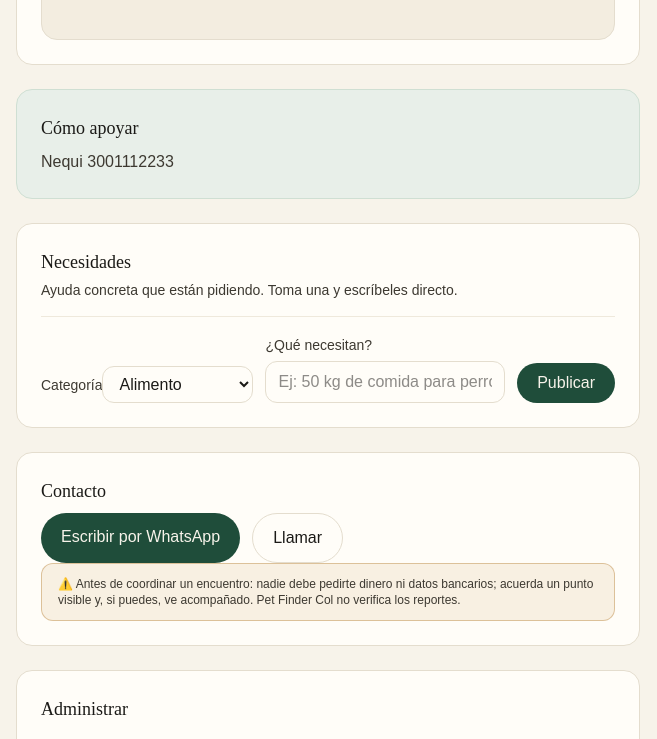
Test: OrganizacionDetalle › el autor publica una necesidad y la marca cubierta
(page scrolled)
Select "Medicinas" in the dropdown labelled "Categoría": (178, 384) [102,366,254,402]
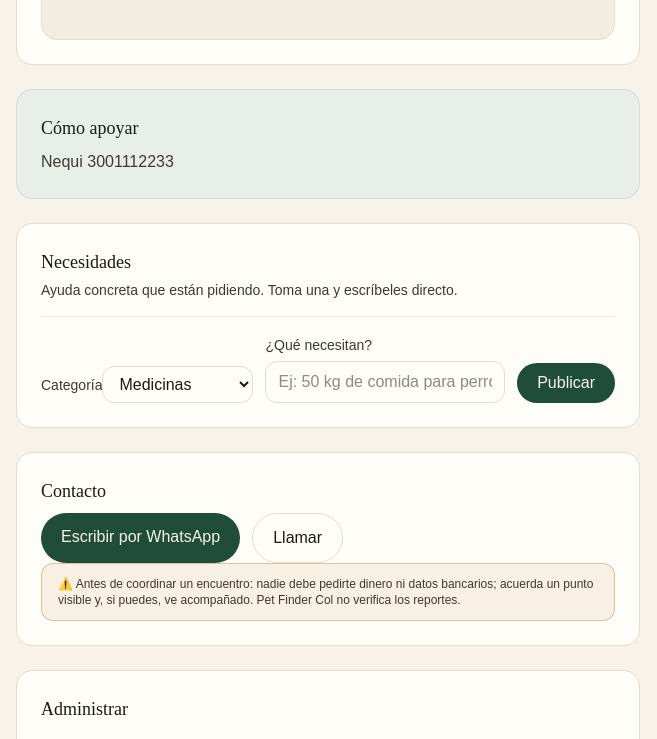
In the field labelled "¿Qué necesitan?": (385, 382) [266,360,505,402], type "Antipulgas para cachorros"
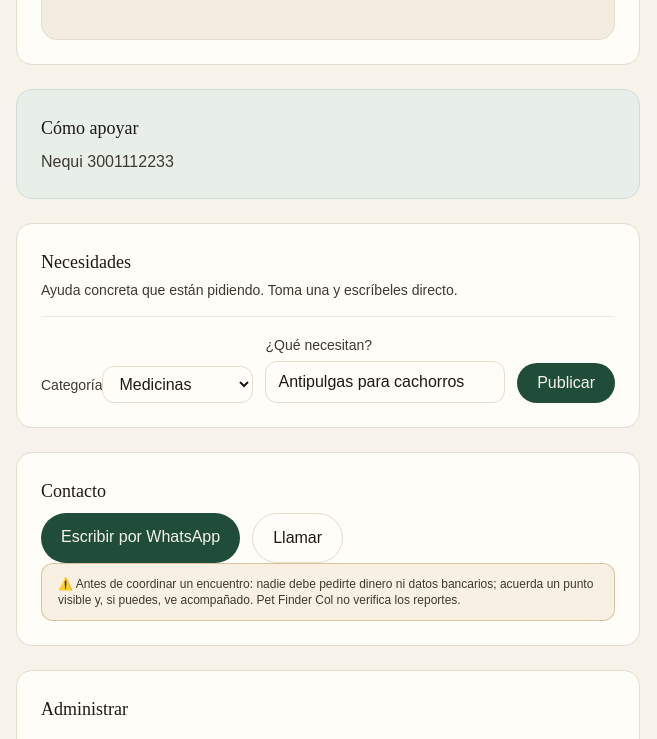
Click the button "Publicar": (566, 382) [517,362,615,402]
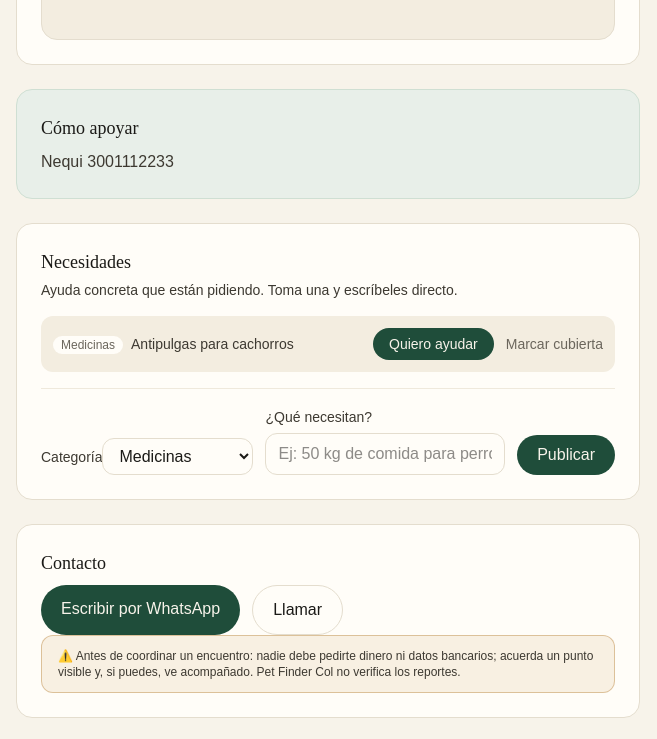
Check: the text "Antipulgas para cachorros" is shown, box [131,336,294,352]
Click the button "Marcar cubierta": (554, 344) [506,334,603,354]
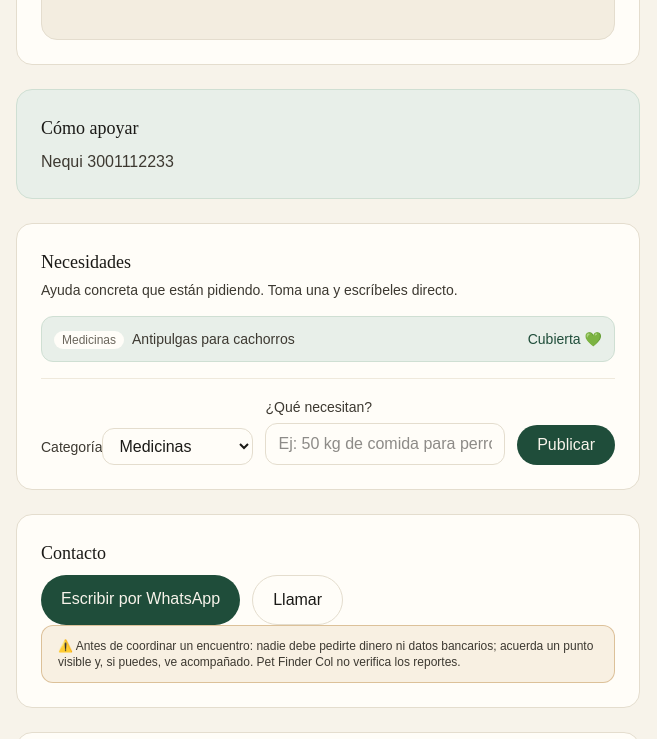
Check: the text "Cubierta 💚" is shown, box [528,328,602,348]
